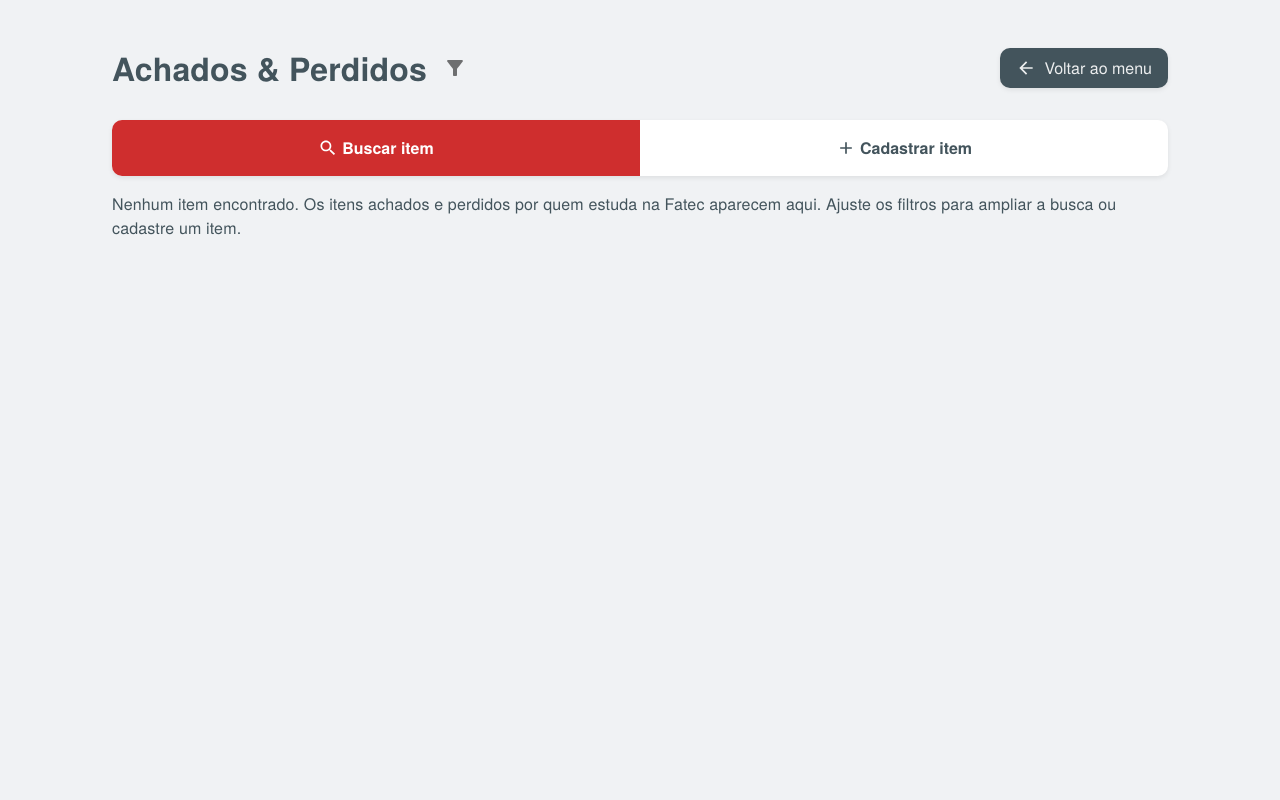
LostAndFound › should not let the filter ask for a day that has not happened yet
The image size is (1280, 800).
Expected: the text "Nenhum item encontrado. Os itens achados e perdidos por quem estuda na Fatec aparecem aqui. Ajuste os filtros para ampli" is shown, left=112, top=192, right=1116, bottom=239
Click the button named "Filtros" at (455, 68), box left=435, top=48, right=475, bottom=88
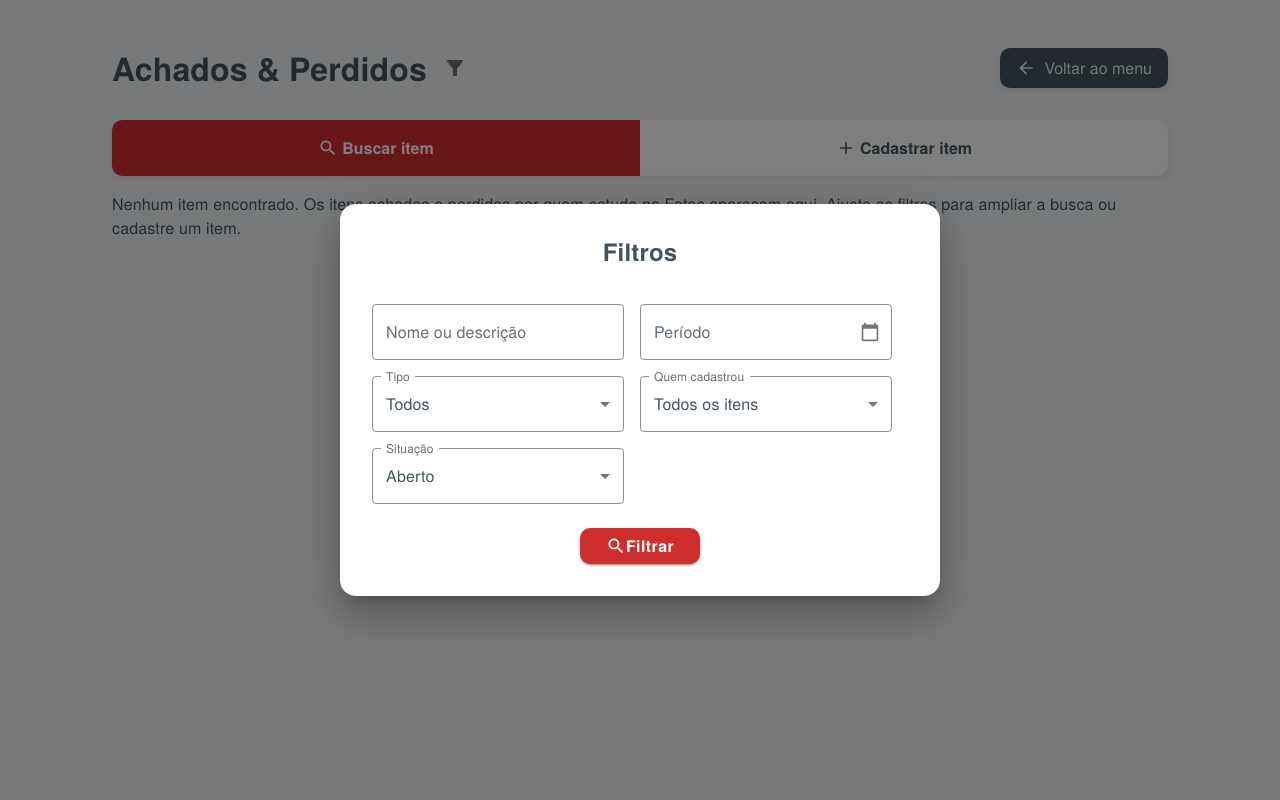
Now the dialog is shown, box left=340, top=204, right=940, bottom=596
Click the button named "Abrir calendário" at (870, 332), box left=852, top=314, right=888, bottom=350
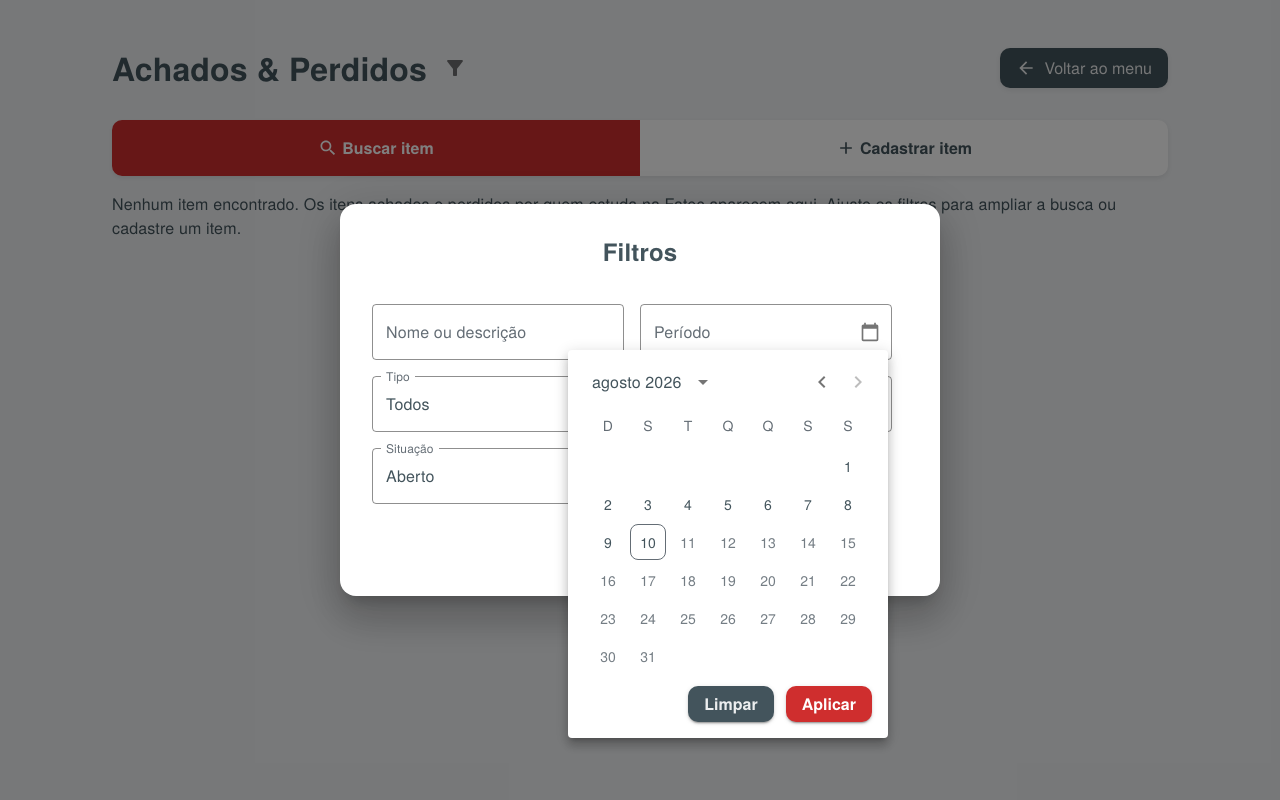
Now the cell "10" is enabled, box left=630, top=524, right=666, bottom=560
Now the cell "11" is disabled, box left=670, top=524, right=706, bottom=560
